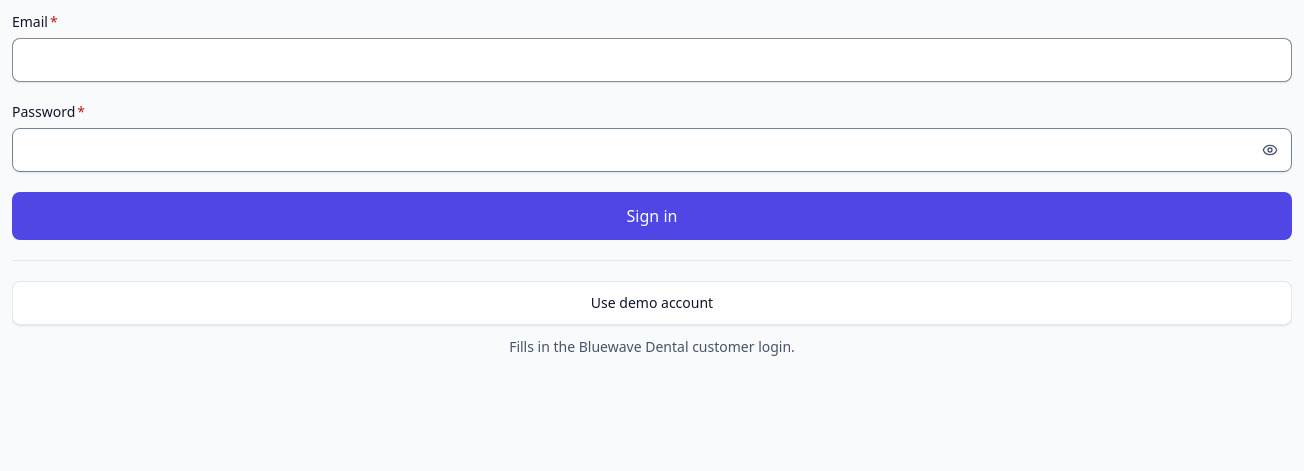
it: LoginForm › tells the user when to retry after a rate limit
Type "customer@bluewave.test" into the field labelled "Email*".
click(652, 60); type("customer@bluewave.test")  # box [12, 38, 1292, 82]
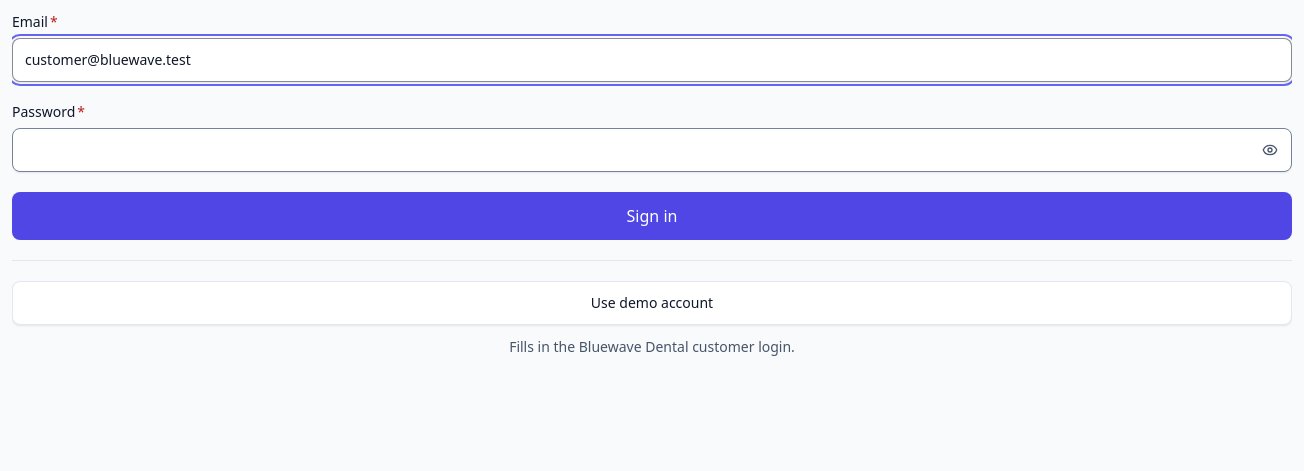
Type "Password123!" into the password field labelled "Password*".
click(652, 150); type("Password123!")  # box [12, 128, 1292, 172]
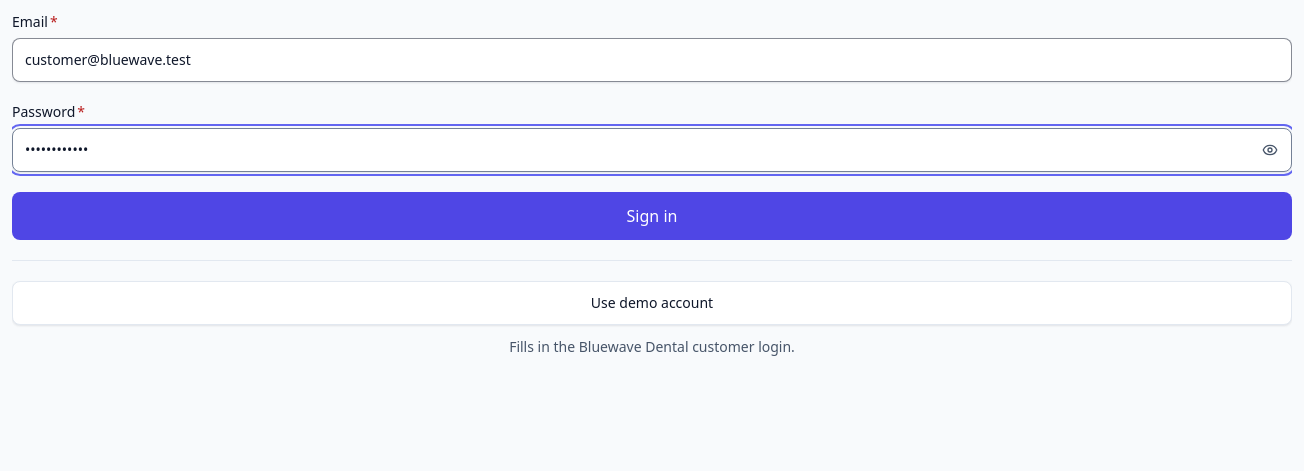
Click the button "Sign in".
click(652, 216)  # box [12, 192, 1292, 240]
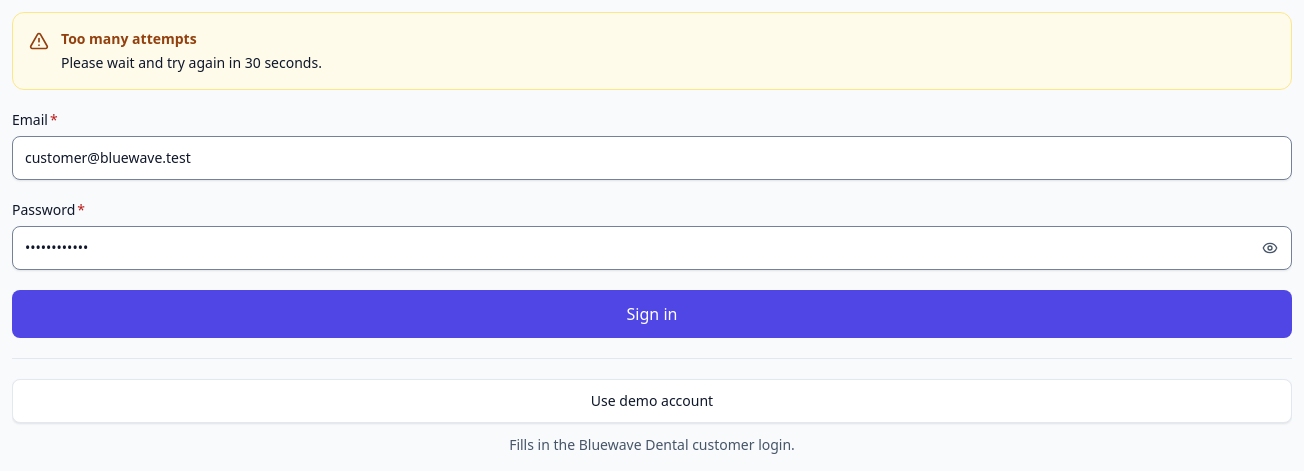
Result: the message shows "in 30 seconds" at [61, 53, 322, 72]
